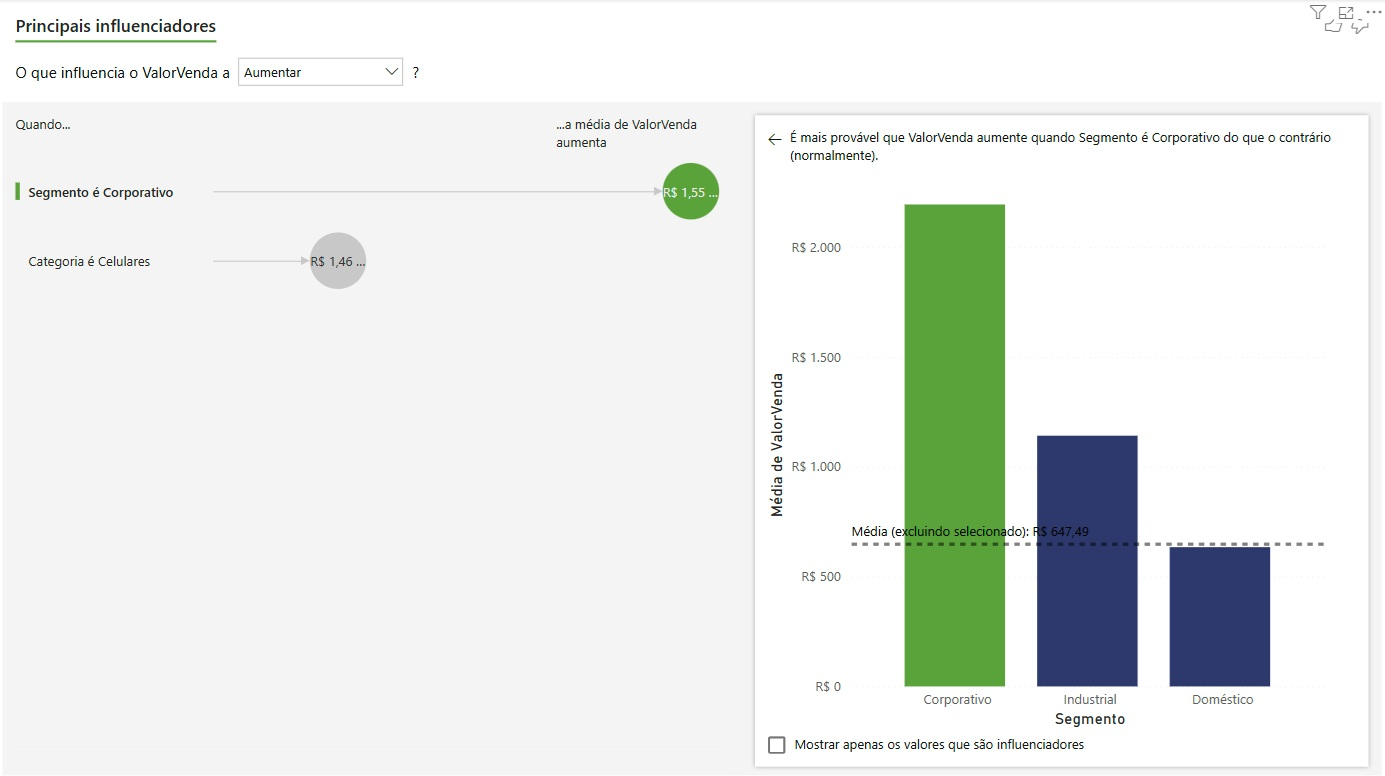

The page's visual inventory and layout, read from the dashboard file:
{"tool":"powerbi","page":{"name":"Principais Influenciadores de Vendas","canvas":[1280,720],"ordinal":2},"visuals":[{"type":"keyDriversVisual","fields":{"Target":["DadosComerciais.ValorVenda"],"ExplainBy":["DadosComerciais.Segmento","DadosComerciais.Categoria"]},"box":[0,0,1280,720.4],"z":0}]}

Visuals, with their boxes in screenshot pixels (x1, y1, x2, y2), scaled from the page's 1280x720 canvas onto the 1385x776 screenshot:
keyDriversVisual - DadosComerciais.ValorVenda x DadosComerciais.Segmento: rect(0, 0, 1384, 775)
